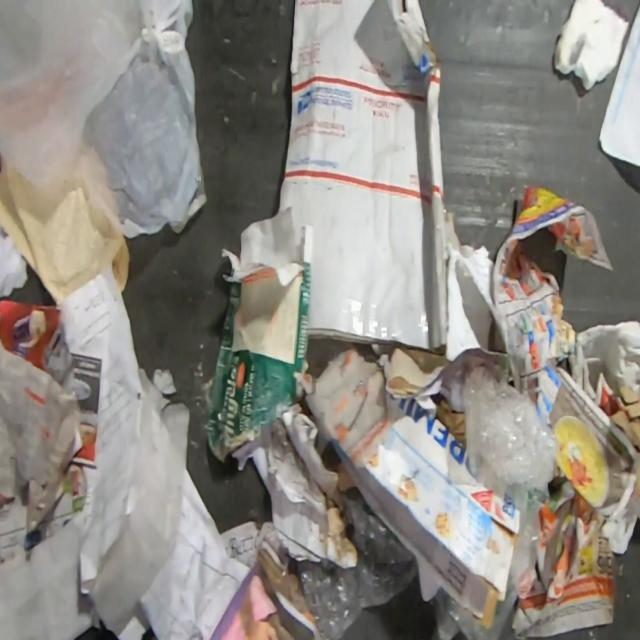cardboard: (276, 0, 451, 359), (319, 395, 525, 629), (204, 206, 316, 465), (608, 372, 640, 503)
soft_plastic: (0, 0, 208, 236), (294, 489, 418, 639), (461, 365, 556, 509), (483, 491, 553, 639)
